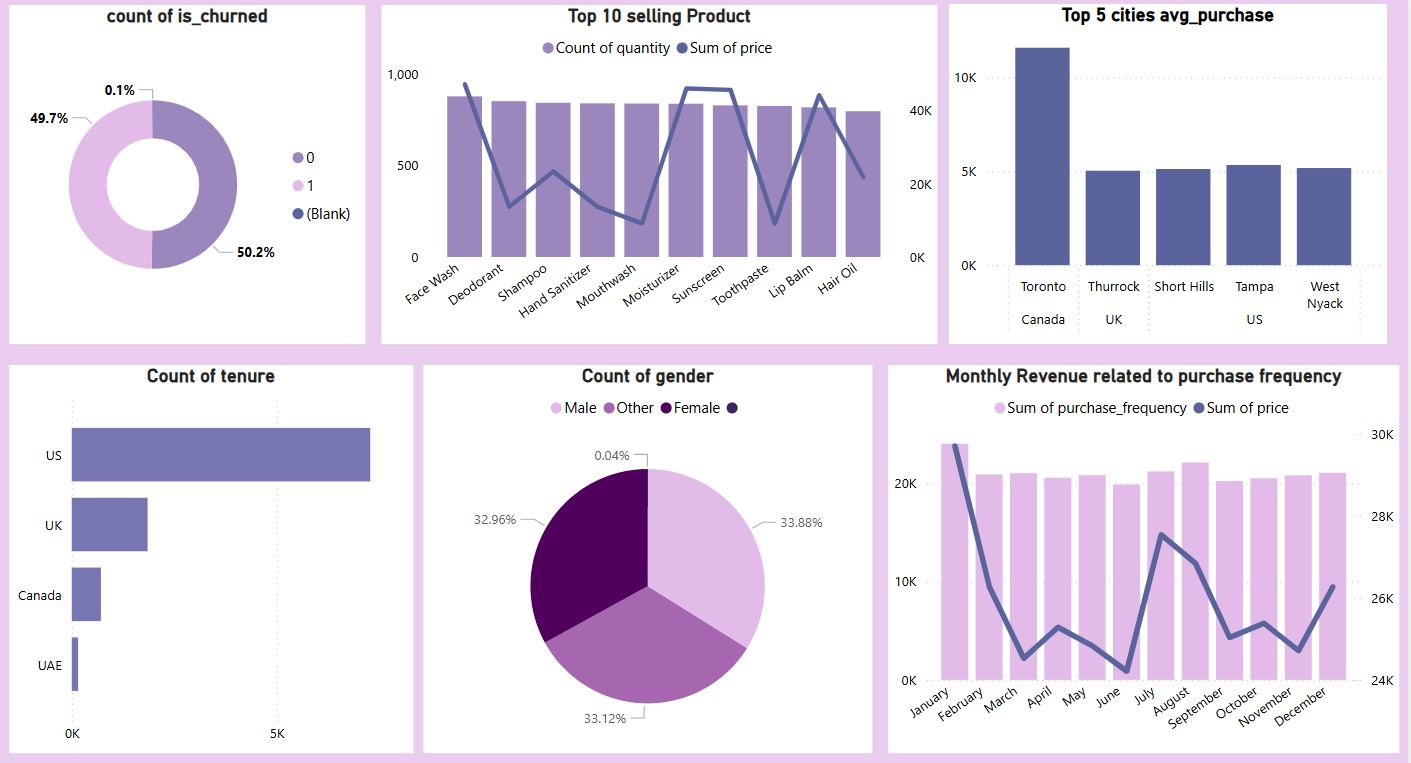

This screenshot's page, from the dashboard's own definition file:
{"tool":"powerbi","page":{"name":"Page 2","canvas":[1280,720],"ordinal":1},"visuals":[{"type":"donutChart","title":"count of is_churned","fields":{"Category":["fact_customer.is_churned"],"Y":["Count(fact_customer.customer_id)"]},"box":[13.3,11.1,322.2,306.7],"z":0},{"type":"barChart","title":"Count of tenure","fields":{"Category":["fact_customer.country"],"Y":["CountNonNull(fact_customer.tenure)"]},"box":[13.3,336.7,365.6,352.2],"z":1000},{"type":"lineClusteredColumnComboChart","title":"Top 10 selling Product","fields":{"Category":["fact_customer.item"],"Y":["CountNonNull(fact_customer.quantity)"],"Y2":["Sum(fact_customer.price)"]},"box":[350,11.1,504.4,306.7],"z":2000},{"type":"lineStackedColumnComboChart","title":"Monthly Revenue related to purchase frequency","fields":{"Y2":["Sum(fact_customer.price)"],"Y":["Sum(fact_customer.purchase_frequency)"],"Category":["fact_customer.invoice_date.Variation.Date Hierarchy.Month"]},"box":[808.9,336.7,463.3,352.2],"z":3000},{"type":"clusteredColumnChart","title":"Top 5 cities avg_purchase","fields":{"Category":["fact_customer.country","fact_customer.city"],"Y":["Sum(fact_customer.price)"]},"box":[864.4,10,396.7,307.8],"z":4000},{"type":"pieChart","title":"Count of gender","fields":{"Category":["fact_customer.gender"],"Y":["CountNonNull(fact_customer.gender)"]},"box":[388,337,407,352],"z":5000},{"type":"slicer","title":"Year","fields":{"Values":["fact_customer.invoice_date.Variation.Date Hierarchy.Year"]},"box":[527,114,375,124],"z":5001}]}

Visuals, with their boxes on the page's 1280x720 design canvas (x1, y1, x2, y2). These are canvas units, not pixel positions in the 1411x763 screenshot, which may show the page scaled, cropped or inside an application window:
"count of is_churned" donutChart: x1=13, y1=11, x2=336, y2=318
"Count of tenure" barChart: x1=13, y1=337, x2=379, y2=689
"Top 10 selling Product" lineClusteredColumnComboChart: x1=350, y1=11, x2=854, y2=318
"Monthly Revenue related to purchase frequency" lineStackedColumnComboChart: x1=809, y1=337, x2=1272, y2=689
"Top 5 cities avg_purchase" clusteredColumnChart: x1=864, y1=10, x2=1261, y2=318
"Count of gender" pieChart: x1=388, y1=337, x2=795, y2=689
"Year" slicer: x1=527, y1=114, x2=902, y2=238
